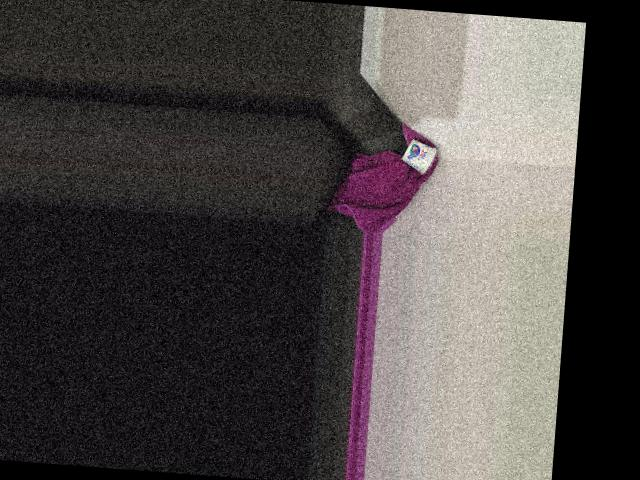cotage: (401, 139, 439, 174)
